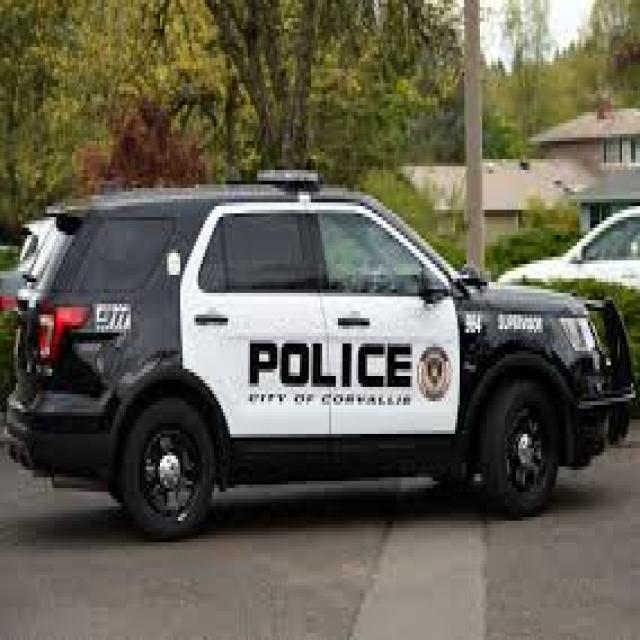cop: (9, 165, 636, 538)
